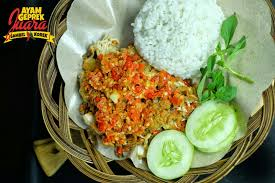ayam_geprek: (81, 57, 179, 143)
